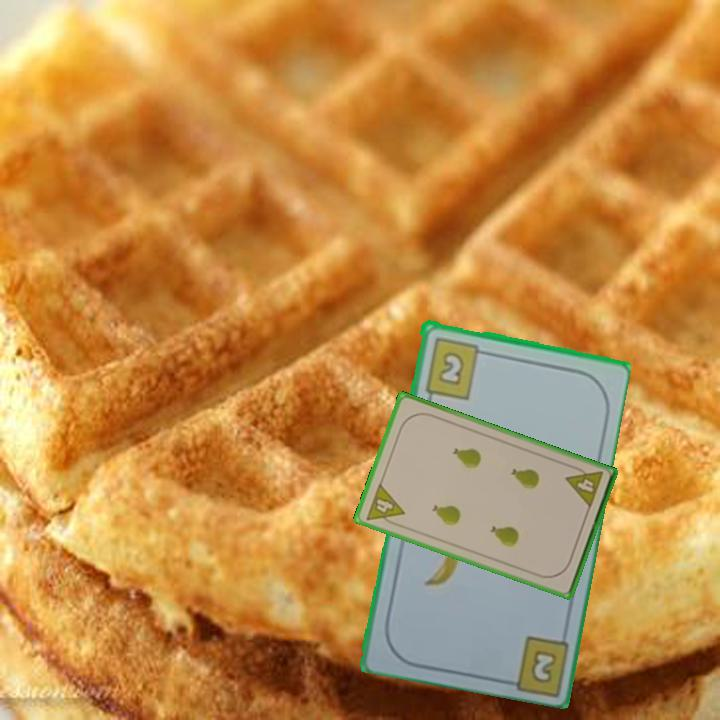2b: (421, 333, 490, 401), (527, 646, 559, 686)
4p: (362, 480, 407, 530), (562, 462, 606, 511)
